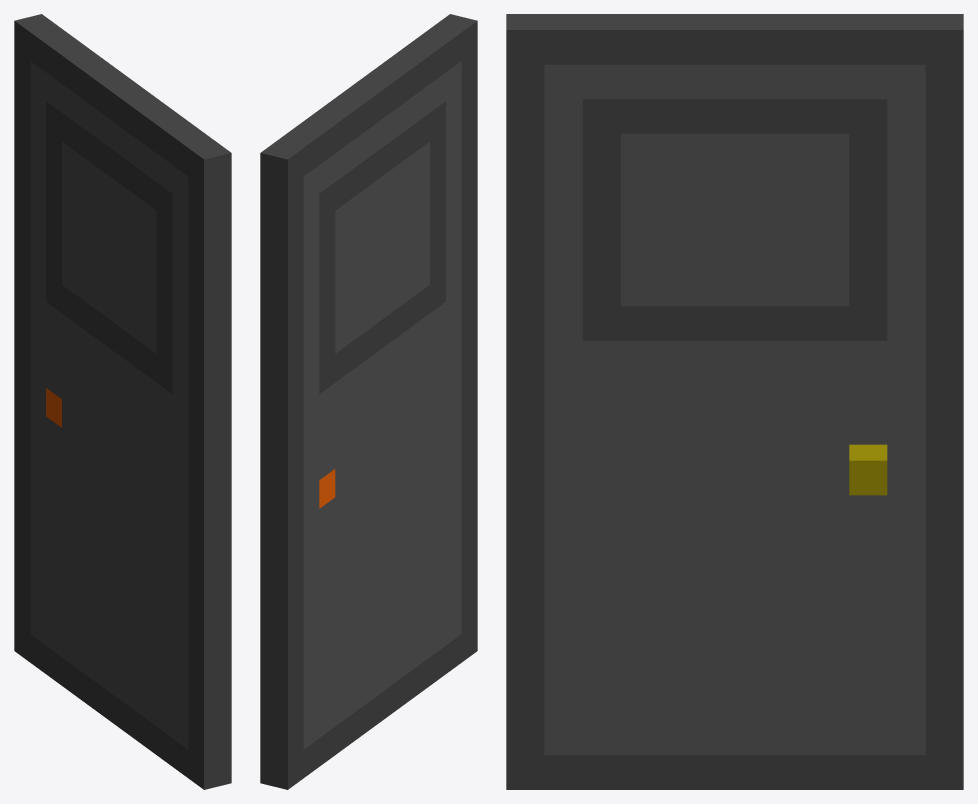
Rendered from House2-0.obj.
3 views of the same model, side by side, from view 1: azimuth 30°, elevation 25°; view 2: azimuth 150°, elevation 25°; view 3: azimuth 270°, elevation 25° (orthographic). The views are drawn at different scales.
Bounding box in the file's own units: 0.2 × 2.2 × 1.2.
1 material, 1 textured.
